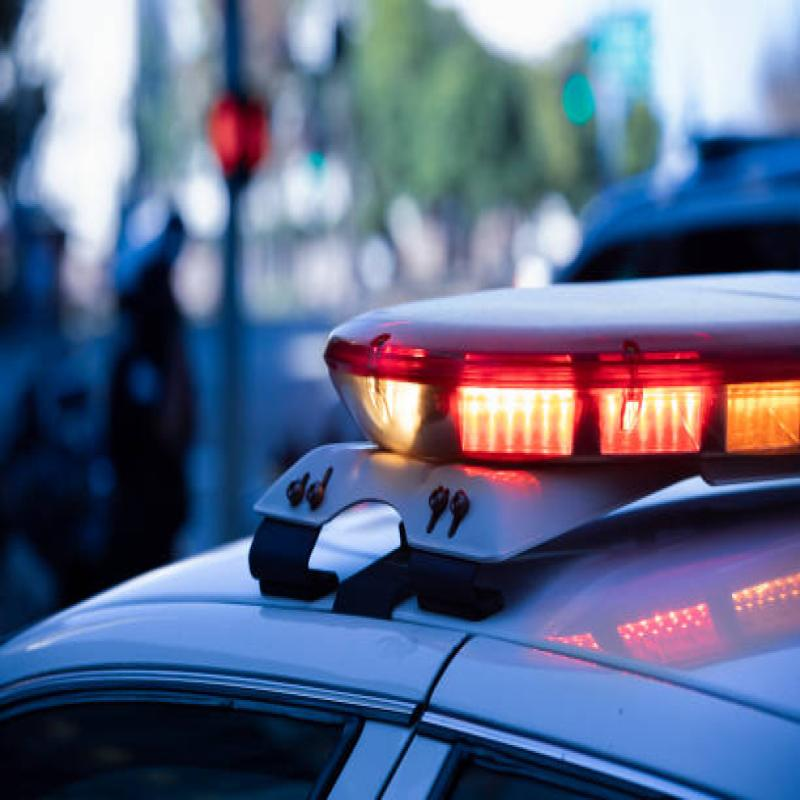AmbulanceSiren: (295, 243, 800, 542)
